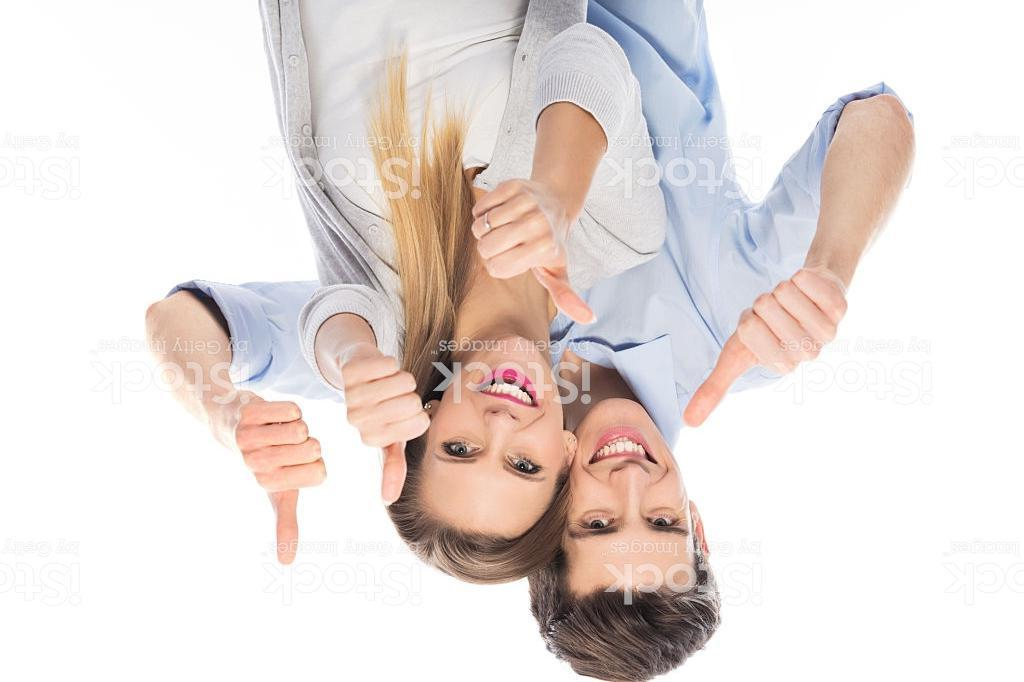thumbsdown: (680, 265, 849, 429), (468, 179, 597, 327), (232, 396, 332, 566), (340, 349, 432, 506)
